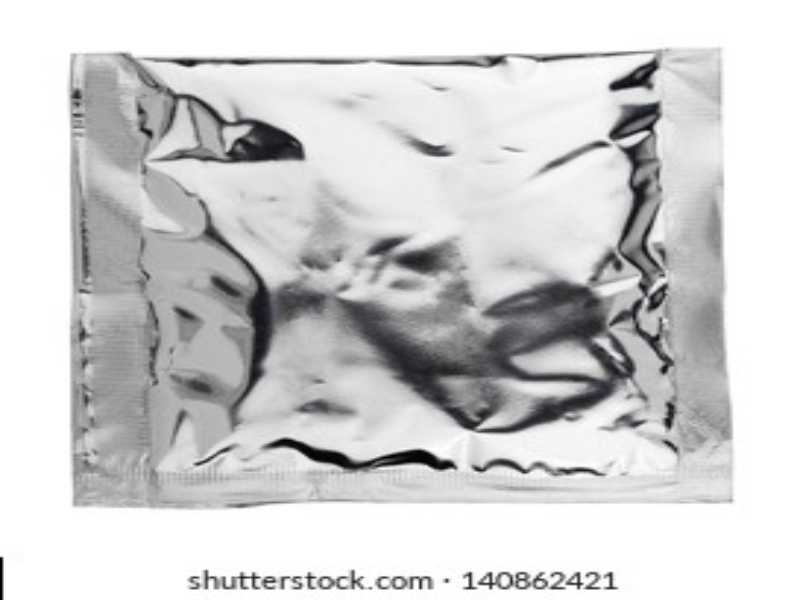Aluminium_Foil: (63, 53, 736, 508), (262, 185, 640, 443)
